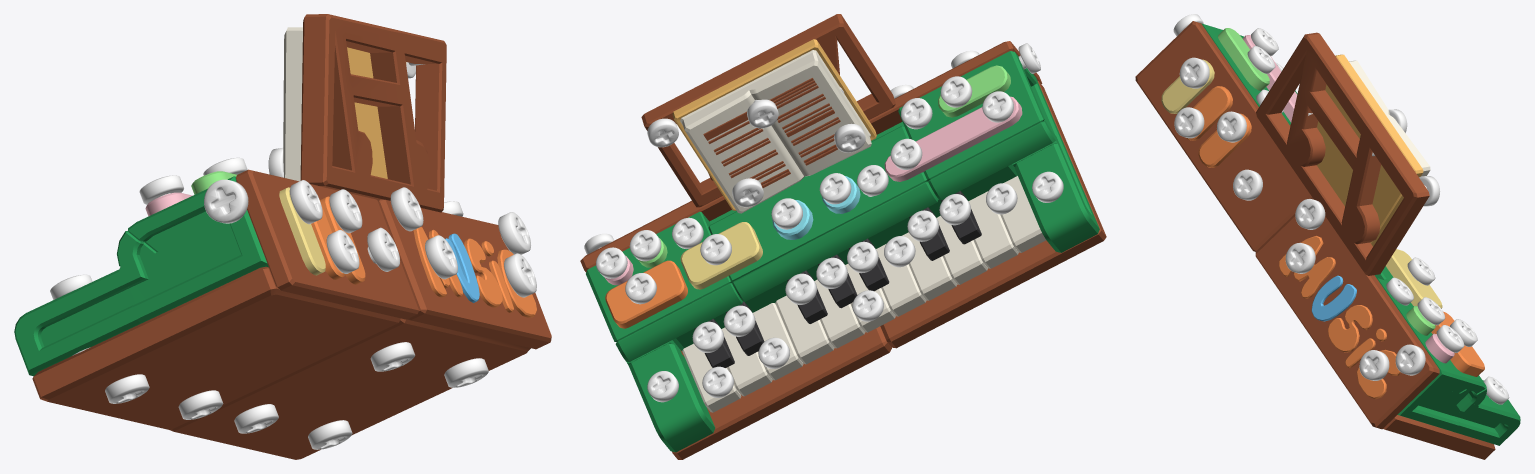
File: ElectronicOrgan.fbx
3 renders of one model, left to right at view 1: azimuth 30°, elevation 25°; view 2: azimuth 150°, elevation 25°; view 3: azimuth 270°, elevation 25°, orthographic. The views are drawn at different scales.
Visible parts, largest first — view 1: ElectronicOrgan.013, ElectronicOrgan.034, ElectronicOrgan.004, Screw (×17), ElectronicOrgan.037, ElectronicOrgan.014, ElectronicOrgan.030, ElectronicOrgan.003, ElectronicOrgan.038, ElectronicOrgan.028, ElectronicOrgan.039, ElectronicOrgan.027 (+3 smaller); view 2: Screw (×30), ElectronicOrgan.038, ElectronicOrgan.032, ElectronicOrgan.034, ElectronicOrgan.013, ElectronicOrgan.004, ElectronicOrgan.005, ElectronicOrgan.006, ElectronicOrgan.031, ElectronicOrgan.003, ElectronicOrgan.012, ElectronicOrgan.008 (+22 smaller); view 3: ElectronicOrgan.034, ElectronicOrgan.037, ElectronicOrgan.014, Screw (×17), ElectronicOrgan.028, ElectronicOrgan.038, ElectronicOrgan.031, ElectronicOrgan.029, ElectronicOrgan.004, ElectronicOrgan.001, ElectronicOrgan.024, ElectronicOrgan.023 (+8 smaller).
Boxes of the visible parts, x1,y1,x2,y2 form: ElectronicOrgan.013: (32,266,400,429); ElectronicOrgan.034: (300,14,446,212); ElectronicOrgan.004: (170,318,530,459); Screw (×17): (50,175,536,449); ElectronicOrgan.037: (236,169,418,319); ElectronicOrgan.014: (377,199,551,349); ElectronicOrgan.030: (119,210,268,323); ElectronicOrgan.003: (14,269,140,376); ElectronicOrgan.038: (283,27,406,181); ElectronicOrgan.028: (413,227,536,317); ElectronicOrgan.039: (128,176,236,252); ElectronicOrgan.027: (279,187,325,275); Screw (×30): (596,76,1063,402); ElectronicOrgan.038: (672,39,876,213); ElectronicOrgan.032: (708,126,928,281); ElectronicOrgan.034: (641,14,895,207); ElectronicOrgan.013: (880,81,1106,348); ElectronicOrgan.004: (672,326,891,459); ElectronicOrgan.005: (732,181,938,301); ElectronicOrgan.006: (937,176,1045,284); ElectronicOrgan.031: (628,343,715,452); ElectronicOrgan.003: (1014,143,1099,252); ElectronicOrgan.012: (682,303,803,412); ElectronicOrgan.008: (845,232,957,332); ElectronicOrgan.034: (1256,32,1429,275); ElectronicOrgan.037: (1135,21,1311,251); ElectronicOrgan.014: (1255,197,1439,429); Screw (×17): (1174,28,1509,404); ElectronicOrgan.028: (1279,235,1400,399); ElectronicOrgan.038: (1290,54,1430,246); ElectronicOrgan.031: (1453,380,1520,445); ElectronicOrgan.029: (1397,386,1478,431); ElectronicOrgan.004: (1383,415,1495,459); ElectronicOrgan.001: (1376,278,1485,393); ElectronicOrgan.024: (1218,28,1269,90); ElectronicOrgan.023: (1386,249,1442,308).
Size of the model in its own units: 10.29 by 8.99 by 8.02.
2 materials, 1 textured.
